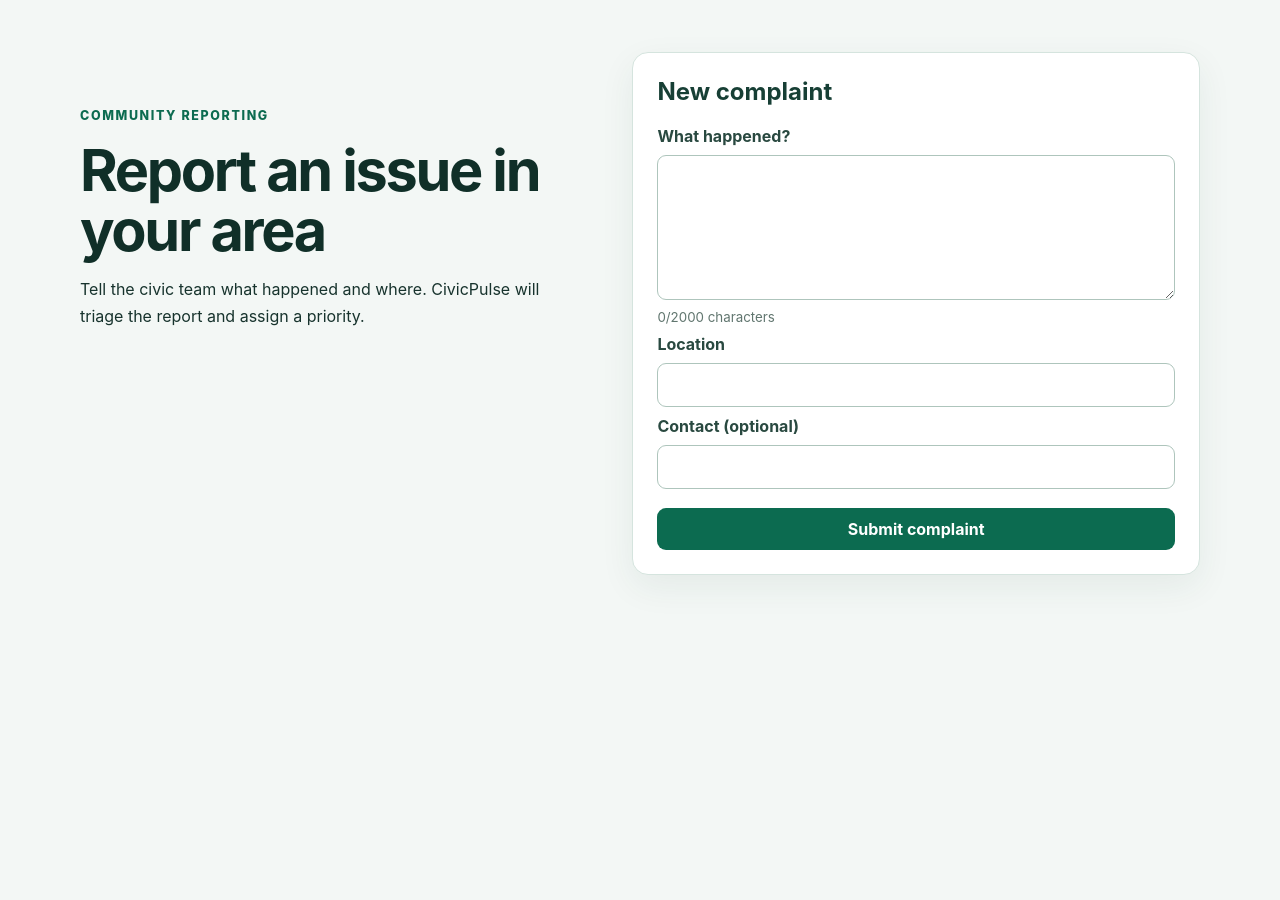
Scenario: SubmitPage › renders category, priority, AI summary and the provider that triaged it
In the text box labelled "What happened?": (916, 227) [657,155,1175,300], type "Burst water main flooding Street 12 since fajr"
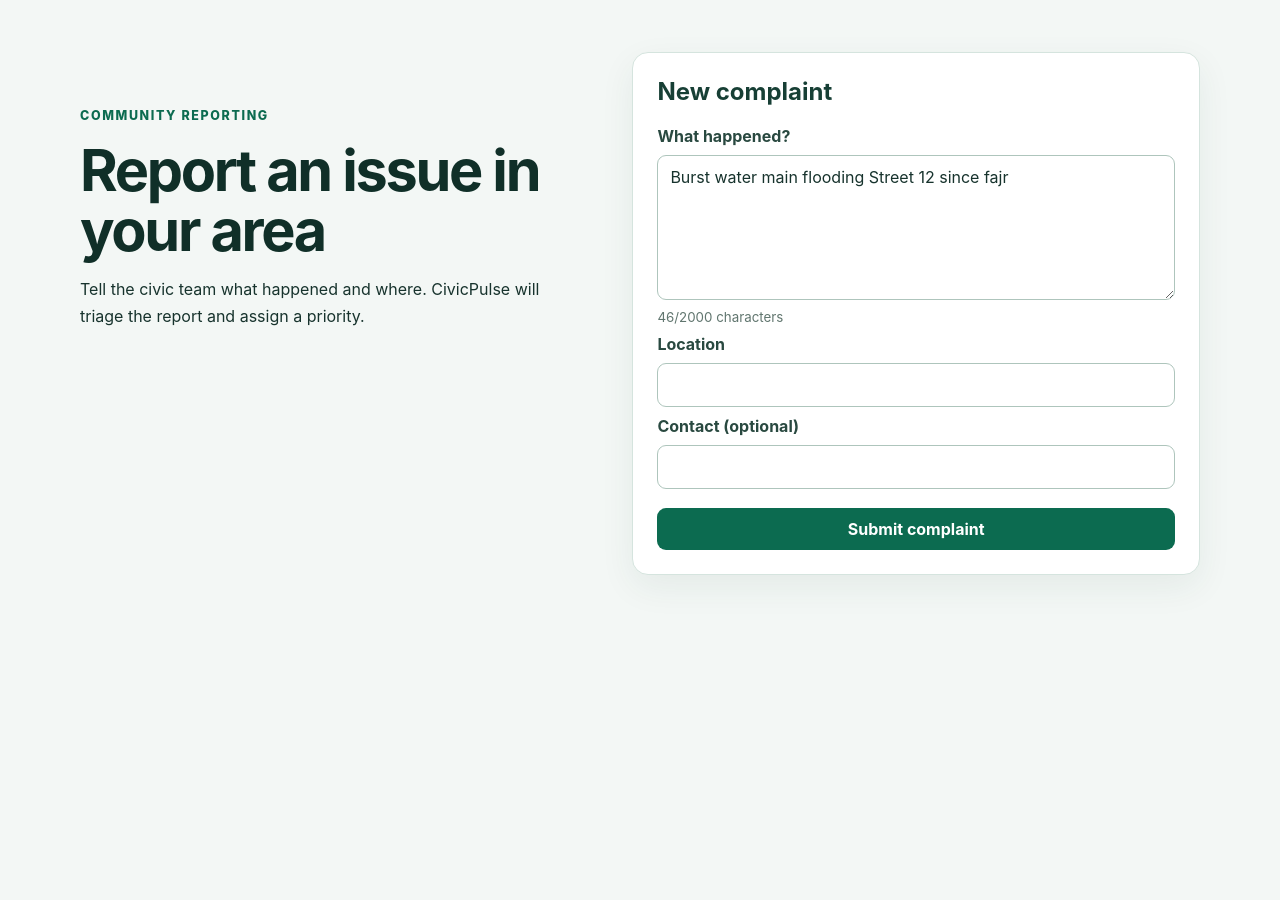
In the field labelled "Location": (916, 385) [657,363,1175,407], type "G-9/2, Islamabad"
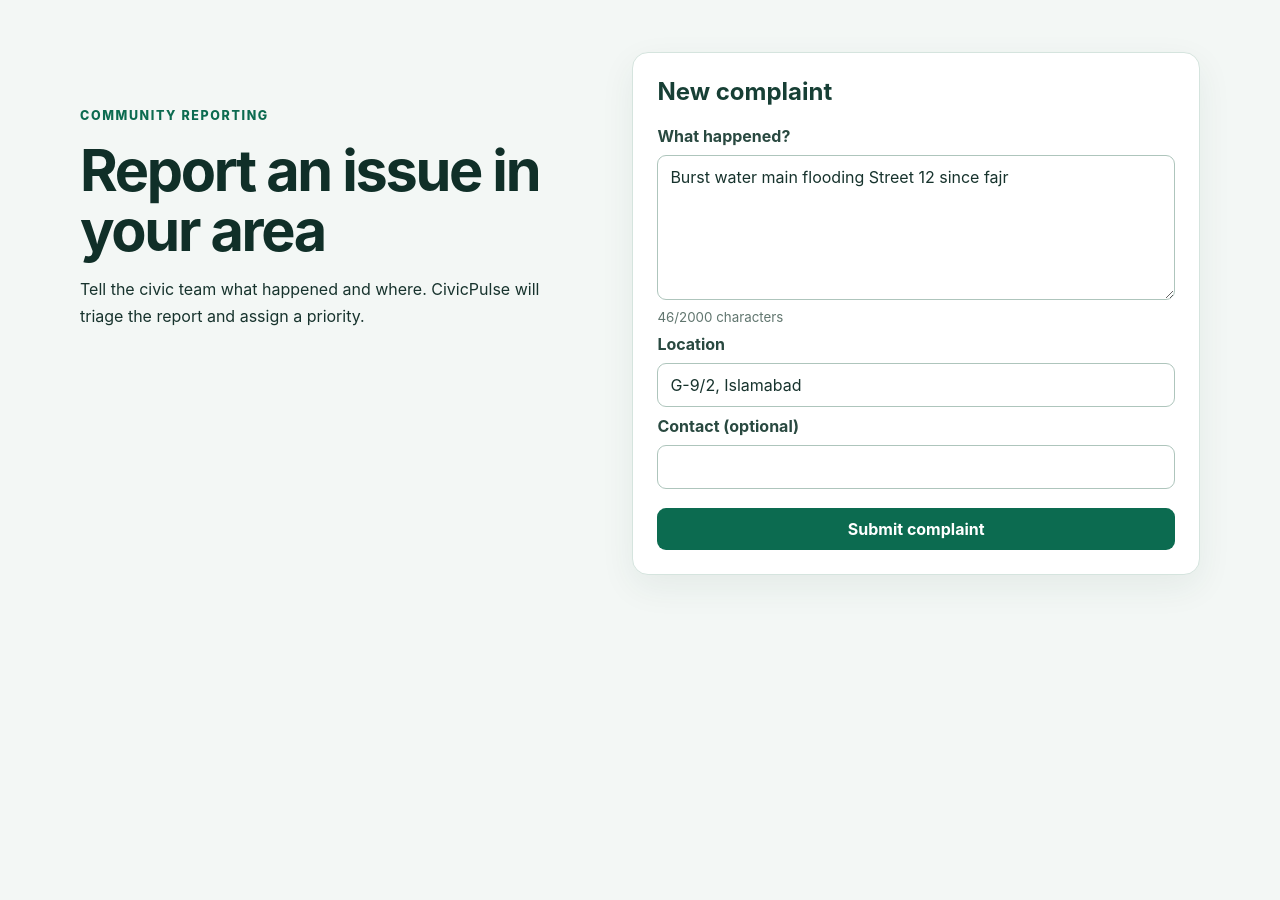
Submit the form "Submit complaint", box [657,126,1175,550]
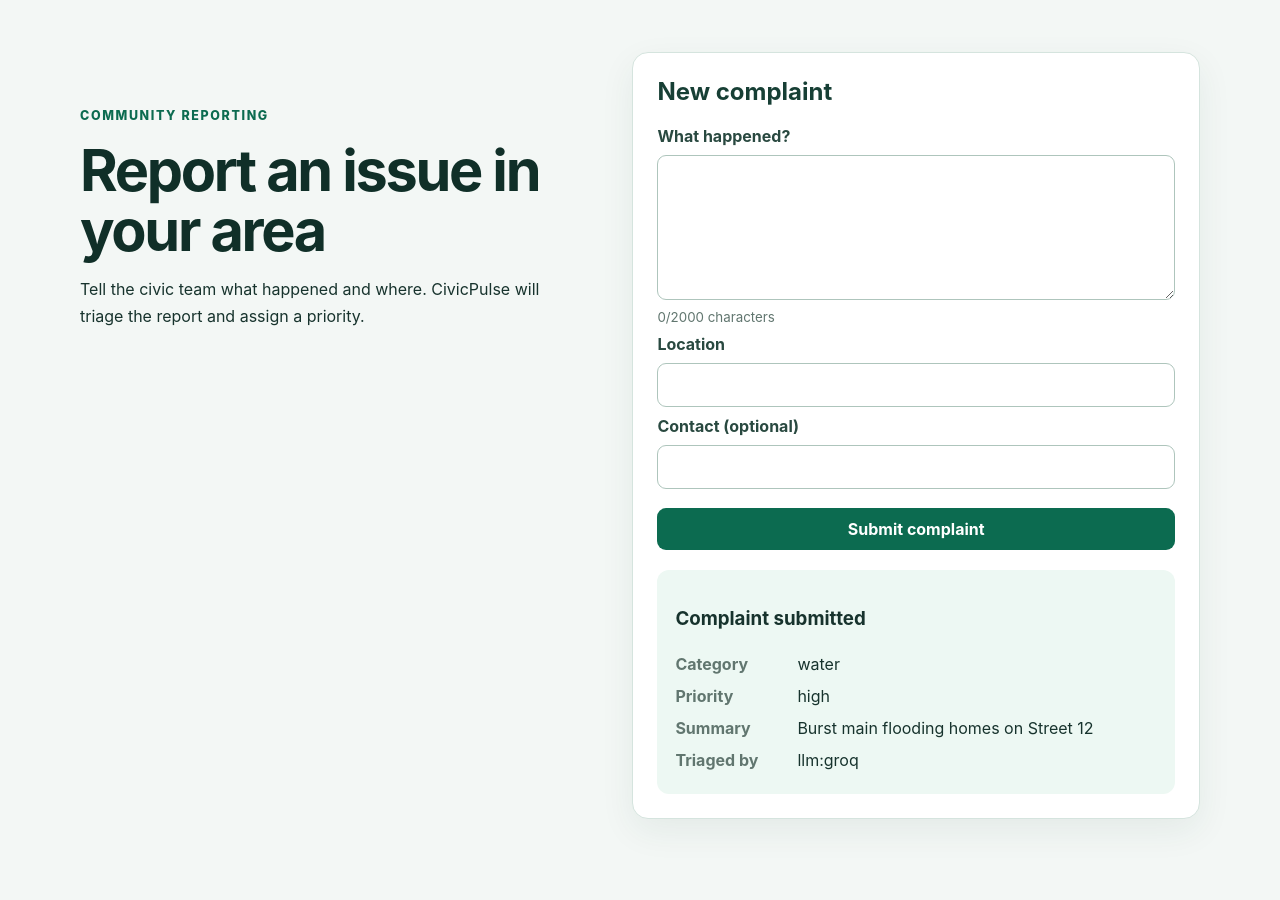
Expected: the heading "Complaint submitted" is shown, [675,607,866,630]
Expected: the text "water" is shown, [797,654,840,674]
Expected: the text "high" is shown, [797,686,830,706]
